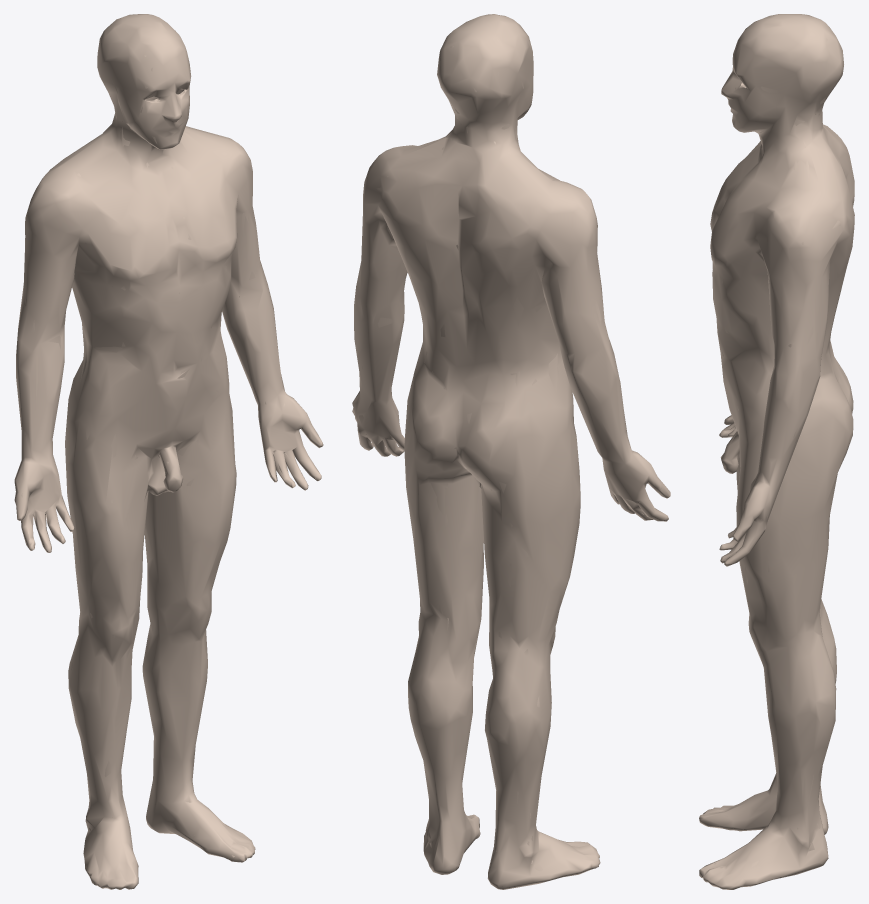
Rendered from body.glb.
3 renders of one model, left to right at view 1: azimuth 30°, elevation 25°; view 2: azimuth 150°, elevation 25°; view 3: azimuth 270°, elevation 25°, orthographic. The views are drawn at different scales.
Visible parts, largest first — view 1: body; view 2: body; view 3: body.
Part boxes in pixels (<box>): body: <box>14,14,323,889</box>; body: <box>352,14,670,889</box>; body: <box>699,14,854,889</box>.
Size of the model in its own units: 0.6628 by 1.71 by 0.289.
